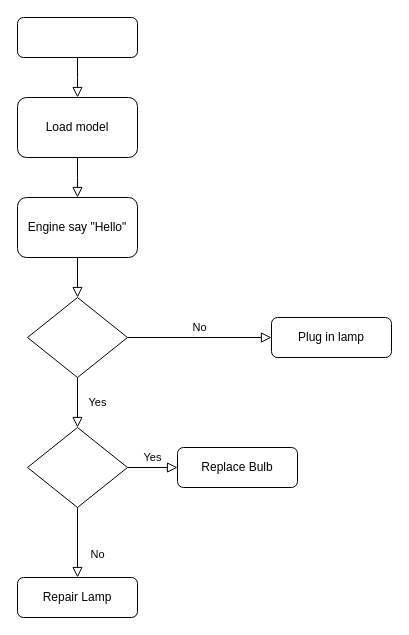
Some shapes in this 409 by 635 pixel diagram are drawn without their labels. Here are the shapes that lost their labels. From the top down, the centre of each, then its label:
At (x=77, y=37): "Start".
At (x=77, y=337): "Say some words".
At (x=77, y=467): "Bulb burned out?".
